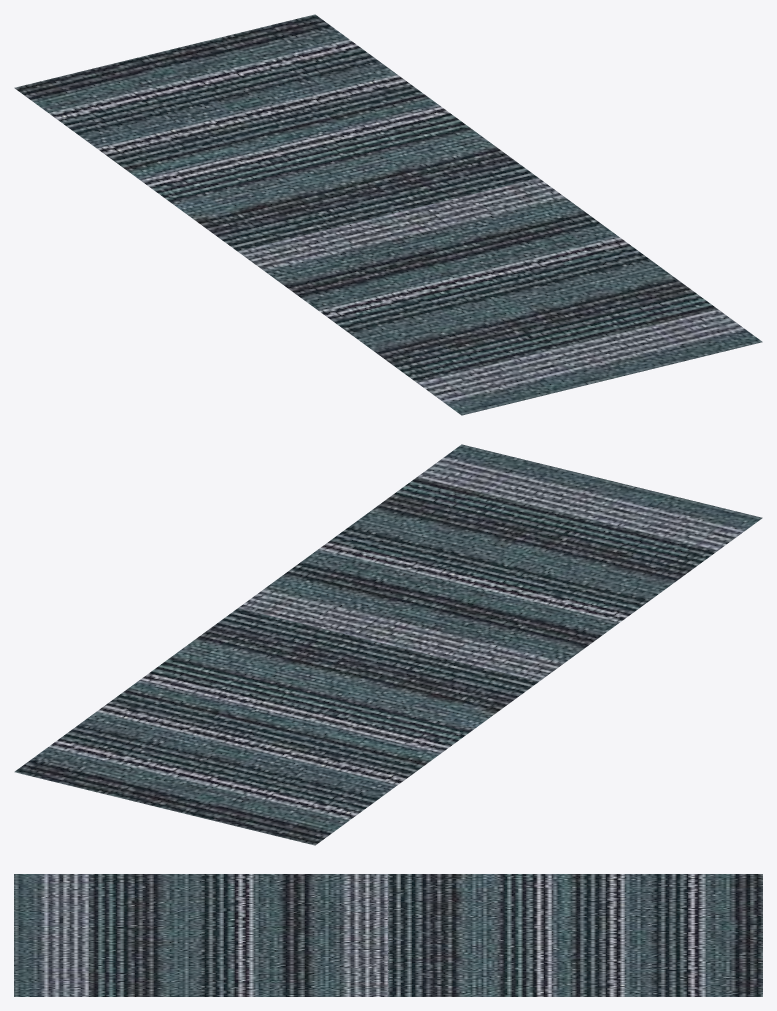
Rendered from Runner_Rug.fbx.
3 renders of one model, top to bottom at view 1: azimuth 30°, elevation 25°; view 2: azimuth 150°, elevation 25°; view 3: azimuth 270°, elevation 25°, orthographic. The views are drawn at different scales.
Visible parts, largest first — view 1: pPlane3; view 2: pPlane3; view 3: pPlane3.
Boxes of the visible parts, <box> form: pPlane3: <box>14,14,762,415</box>; pPlane3: <box>14,444,762,845</box>; pPlane3: <box>14,874,762,996</box>.
Size of the model in its own units: 0.7761 by 0 by 2.
Materials: 1 (1 with a texture image).
